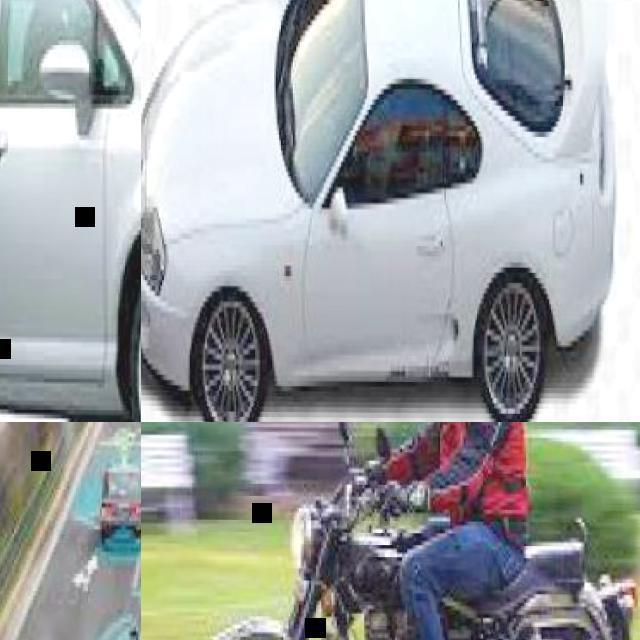car: (1, 0, 633, 429)
